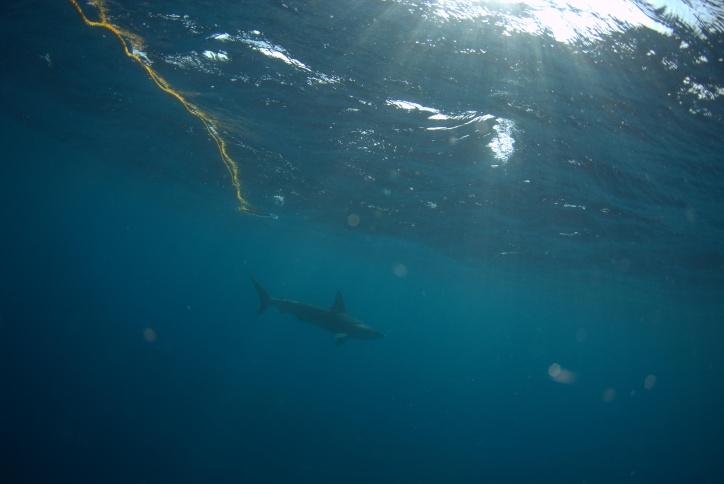Hammer: (216, 259, 426, 376)
